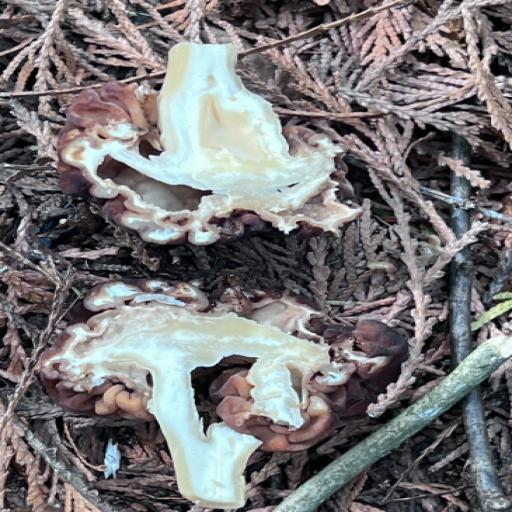mushroom: (58, 20, 353, 323), (0, 0, 1, 1)
